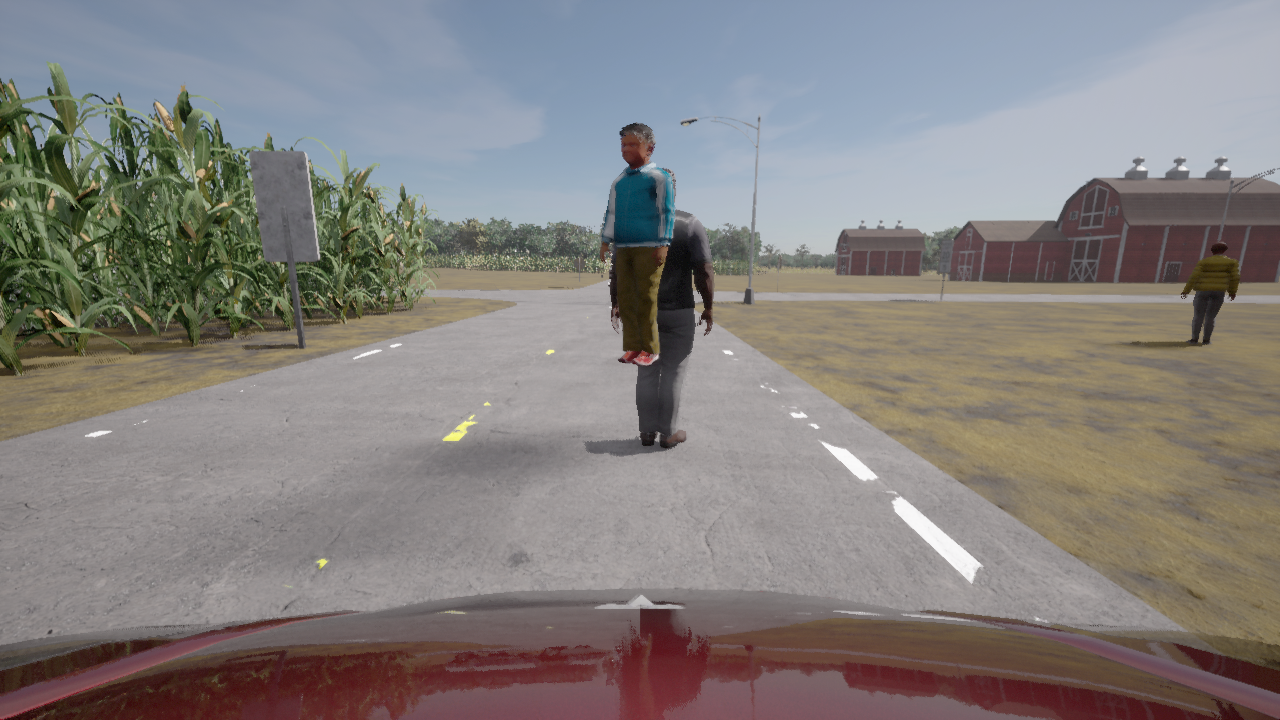cyclist: (0, 588, 1279, 719)
pedestrian: (609, 169, 713, 448), (601, 121, 676, 366), (1180, 241, 1240, 344)
